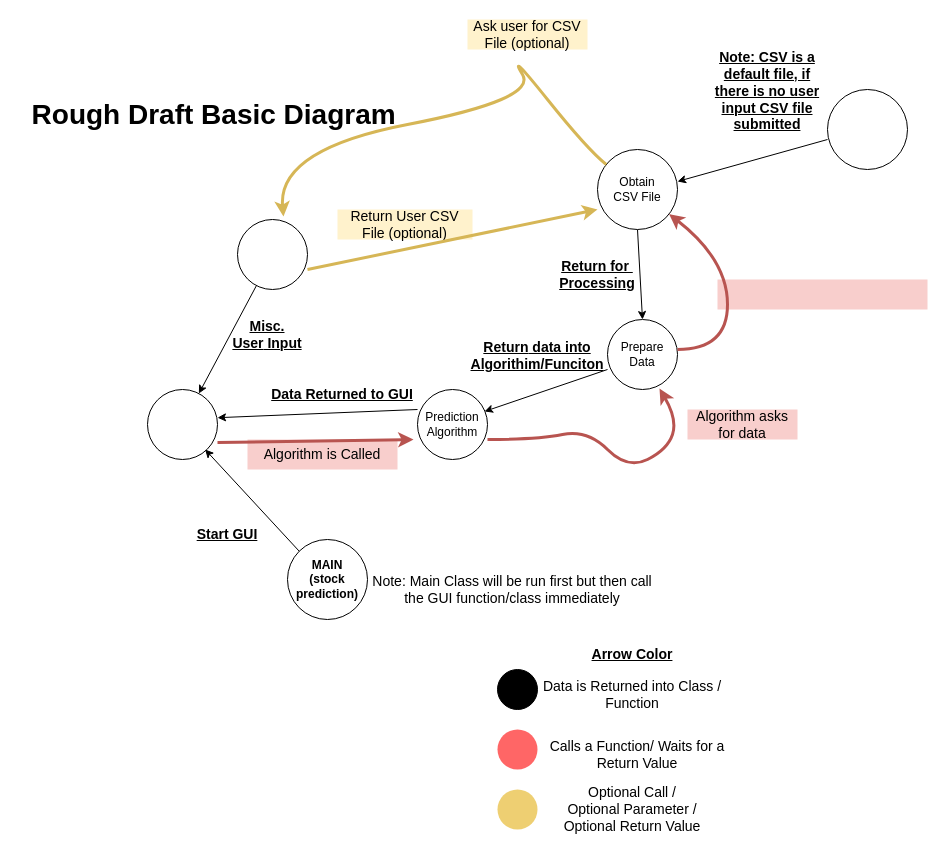
The diagram is 944 pixels wide and 851 high, and some of its shapes have lost their labels. Each missing label, with the centre of its shape:
Default CSV File: the point at 867,129
GUI: the point at 182,424
Obtain data from default CSV/ User Submitted CSV: the point at 822,294
User Input: the point at 272,254
